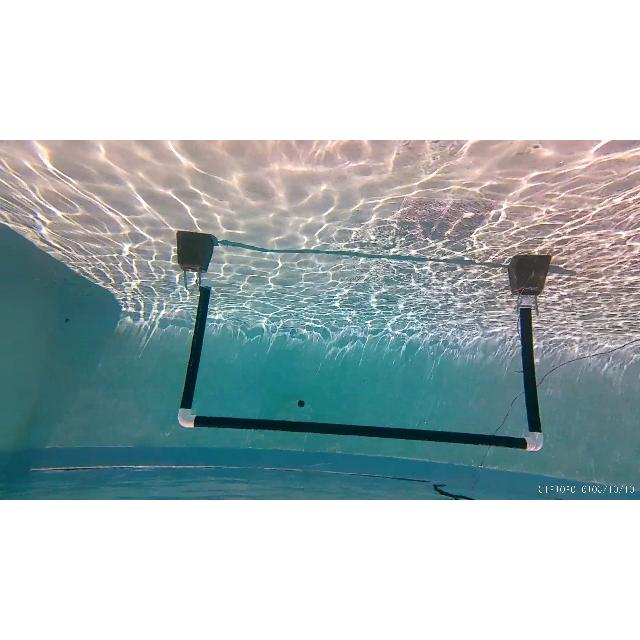prequal gate: (178, 276, 544, 452)
prequal gate leg l: (508, 294, 546, 456)
prequal gate leg r: (177, 276, 210, 430)
